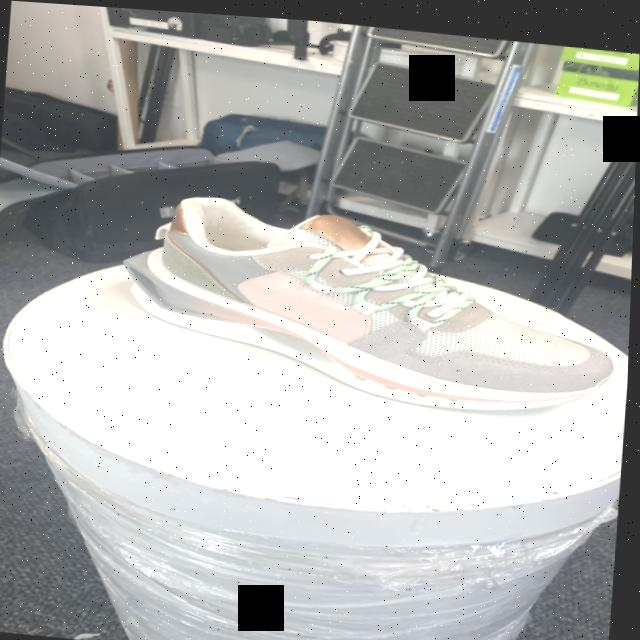shoes: (113, 182, 631, 417)
